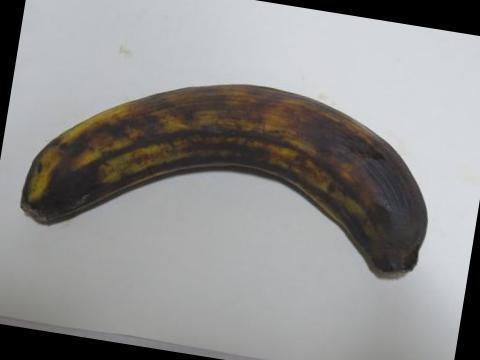overripe: (20, 80, 437, 300)
rotten: (344, 168, 422, 283)
